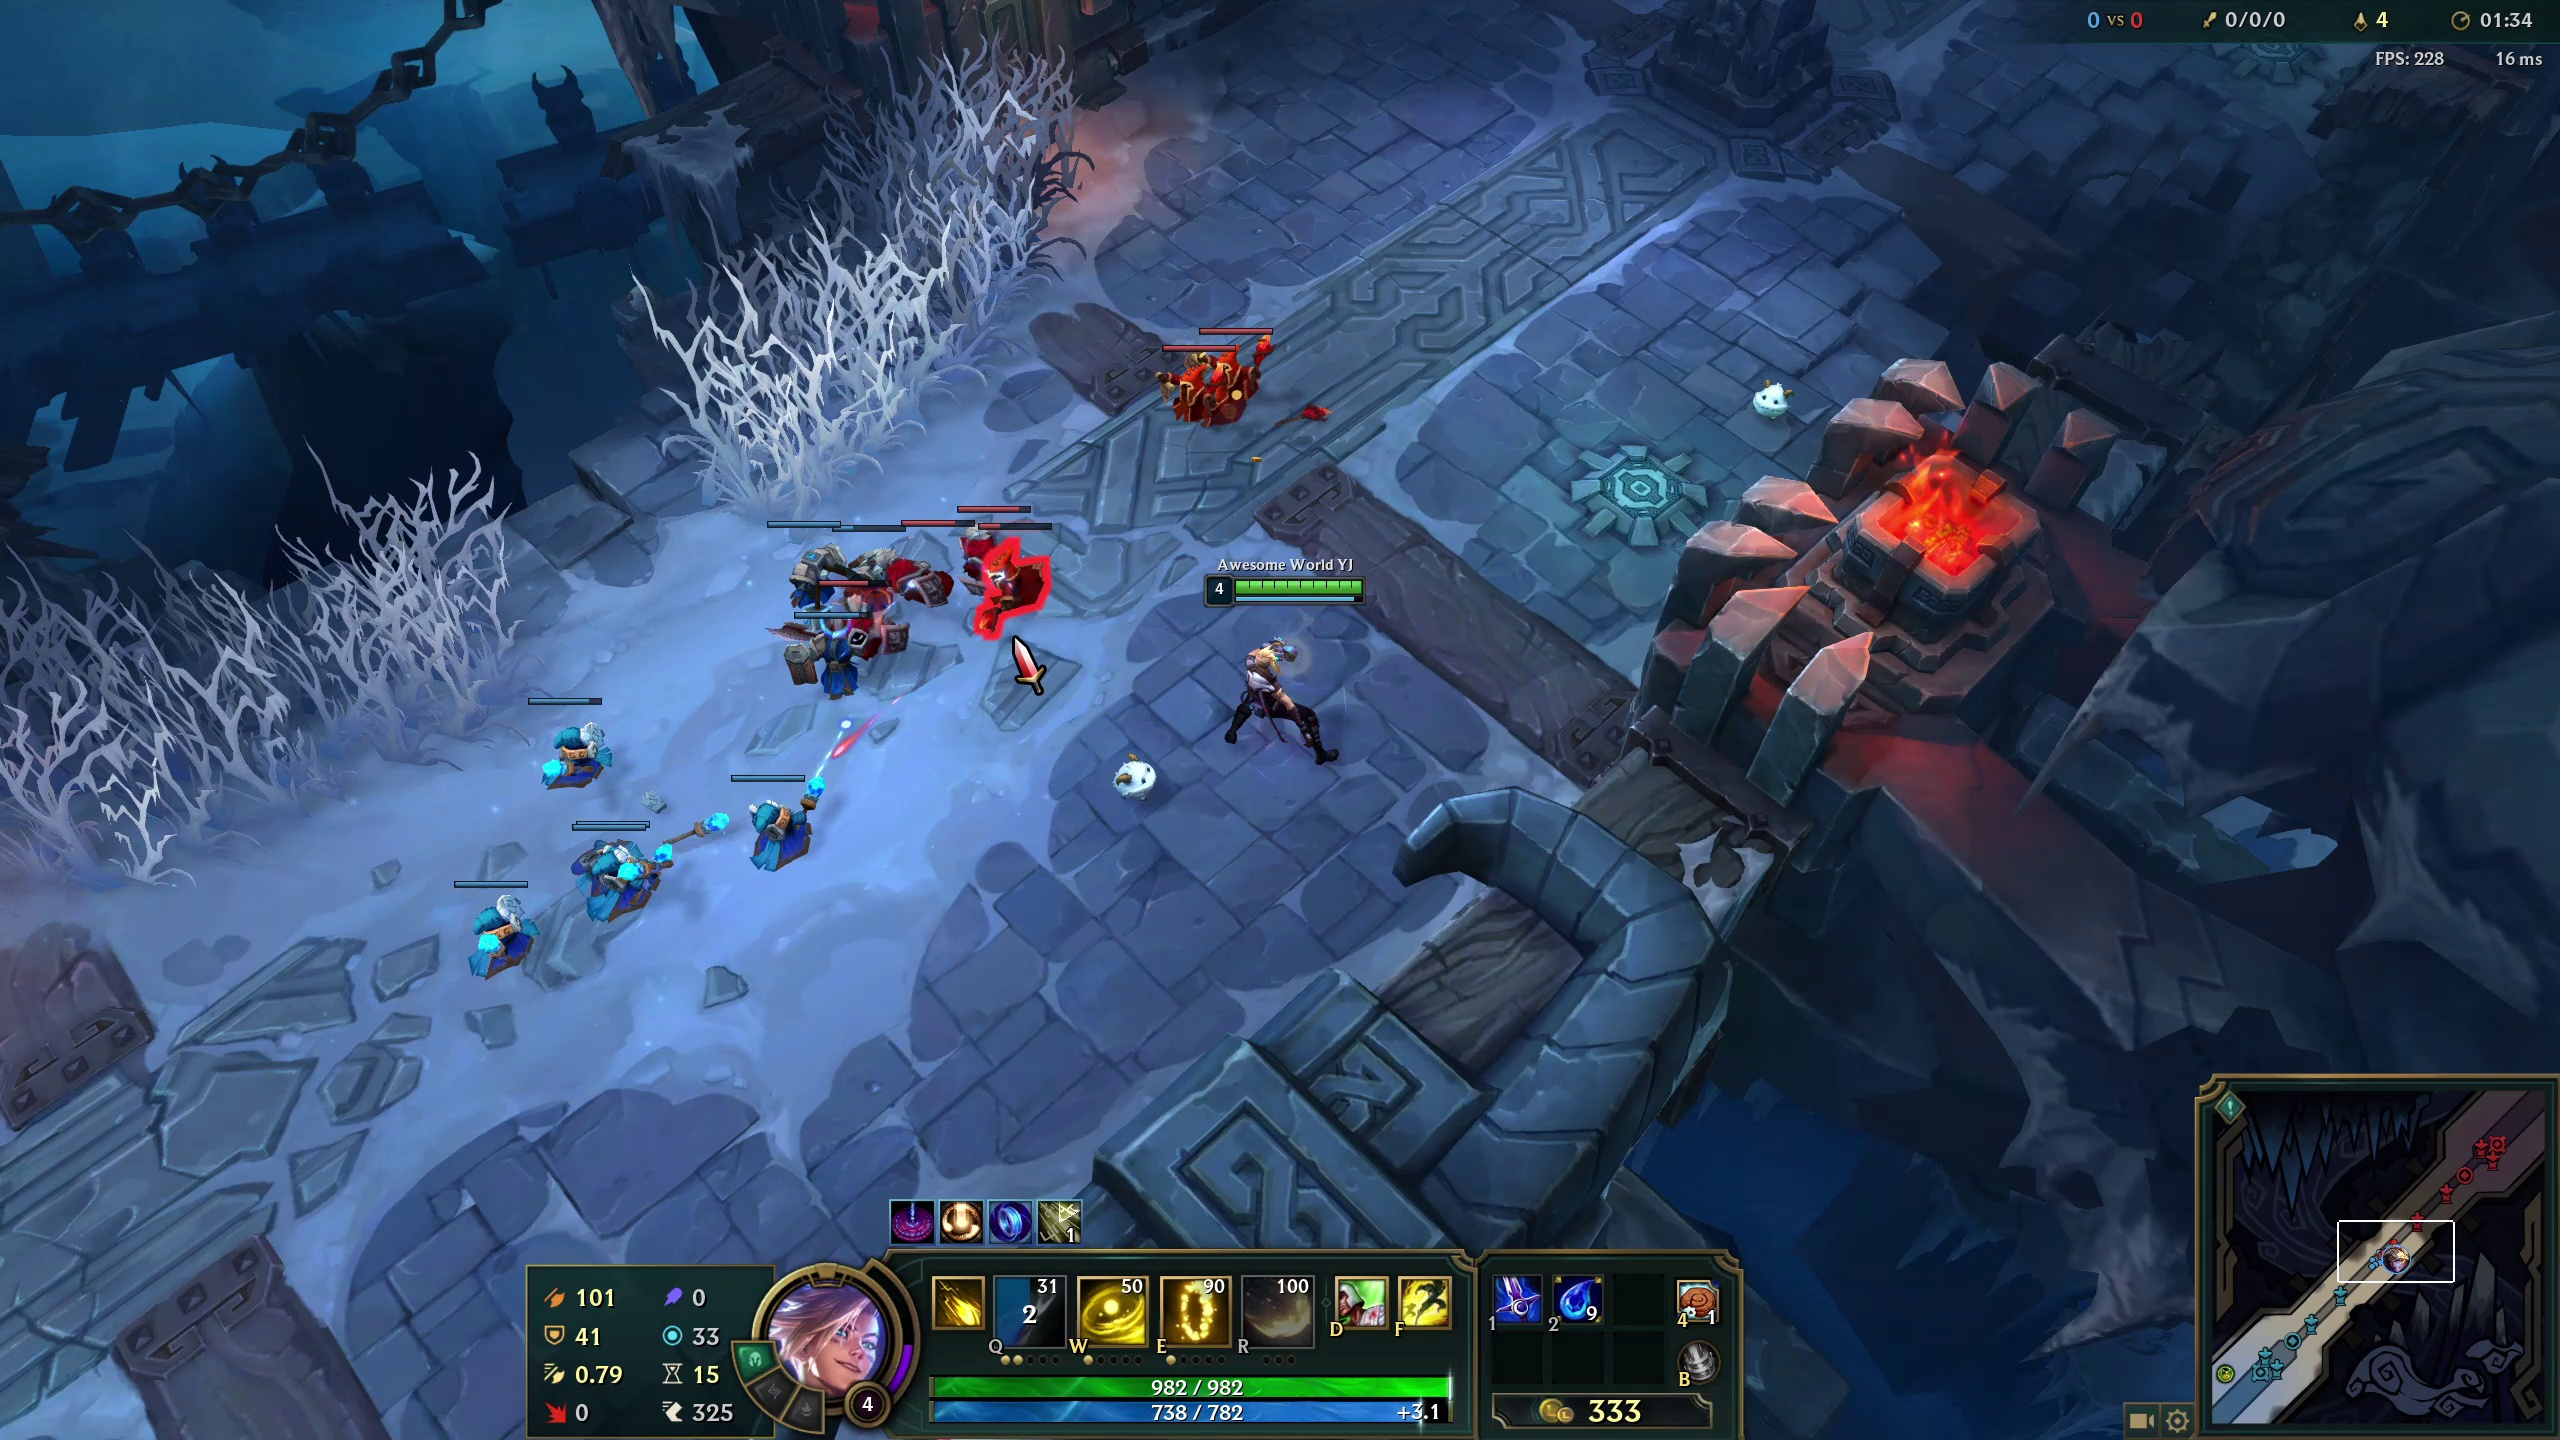EZ: (1208, 585, 1364, 812)
EnemyMinion: (825, 570, 904, 666), (1206, 306, 1284, 403), (1139, 325, 1217, 422), (1192, 348, 1269, 445), (974, 520, 1051, 617), (893, 512, 971, 608), (948, 482, 1025, 577)
Glass: (2, 571, 362, 802), (730, 158, 928, 466)
MyMinion: (441, 870, 554, 988), (563, 807, 673, 927), (506, 687, 617, 807), (724, 754, 835, 874), (775, 603, 886, 723), (730, 492, 840, 612), (816, 491, 927, 608)
Turret: (1670, 2, 1827, 113)
